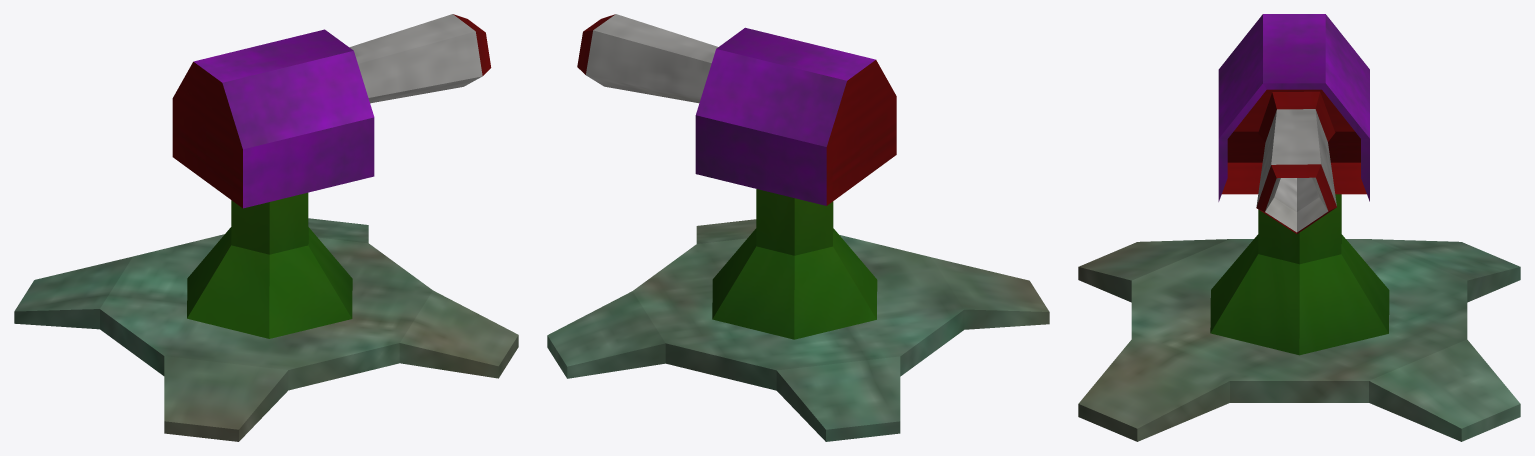
File: TorreTinta1.fbx
3 renders of one model, left to right at view 1: azimuth 30°, elevation 25°; view 2: azimuth 150°, elevation 25°; view 3: azimuth 270°, elevation 25°, orthographic. The views are drawn at different scales.
Visible parts, largest first — view 1: Torre, Base; view 2: Torre, Base; view 3: Base, Torre.
Part boxes in pixels (left/top/right/bottom): Torre: left=172, top=14, right=491, bottom=338; Base: left=14, top=218, right=518, bottom=441; Torre: left=577, top=14, right=896, bottom=339; Base: left=547, top=219, right=1049, bottom=441; Base: left=1078, top=239, right=1520, bottom=441; Torre: left=1210, top=14, right=1389, bottom=355.
Bounding box in the file's own units: 324 × 225 × 298.
